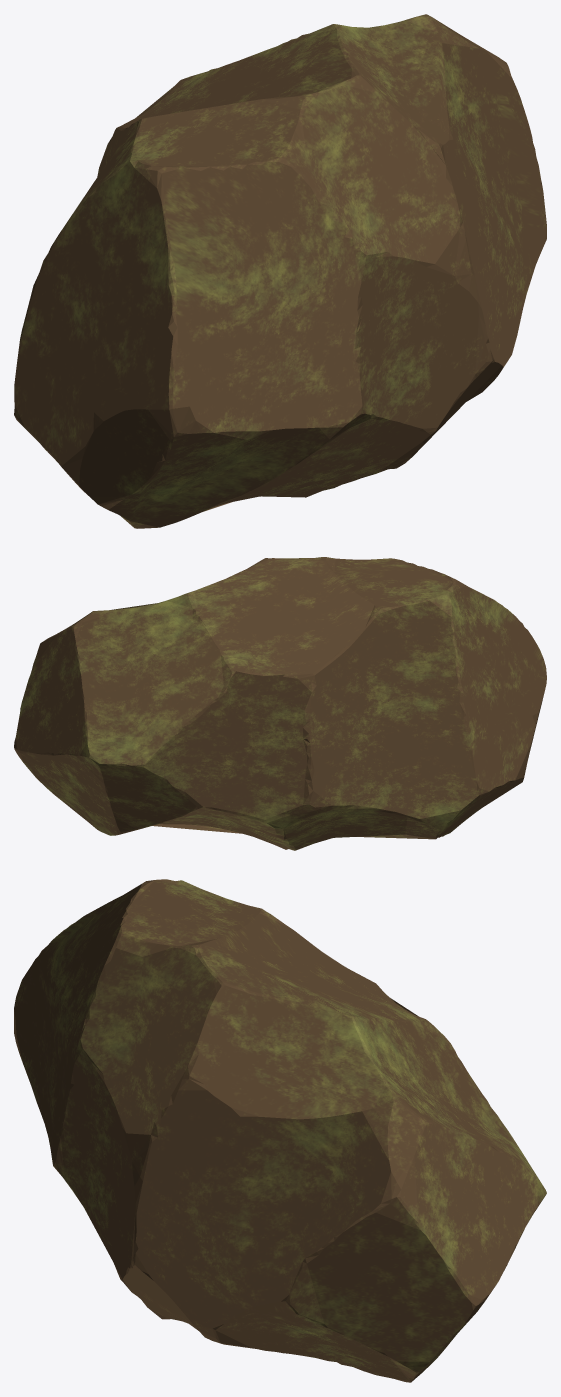
The model's file is Rock2.fbx.
3 views of the same model, one above another, from view 1: azimuth 30°, elevation 25°; view 2: azimuth 150°, elevation 25°; view 3: azimuth 270°, elevation 25° (orthographic). The views are drawn at different scales.
Visible parts, largest first — view 1: Rock7; view 2: Rock7; view 3: Rock7.
Part boxes in pixels (box(x1,y1,x2,y2)): Rock7: box(14, 14, 546, 528); Rock7: box(14, 557, 546, 850); Rock7: box(14, 879, 546, 1382).
Bounding box in the file's own units: 252 × 168 × 222.
Materials: 1 (1 with a texture image).
